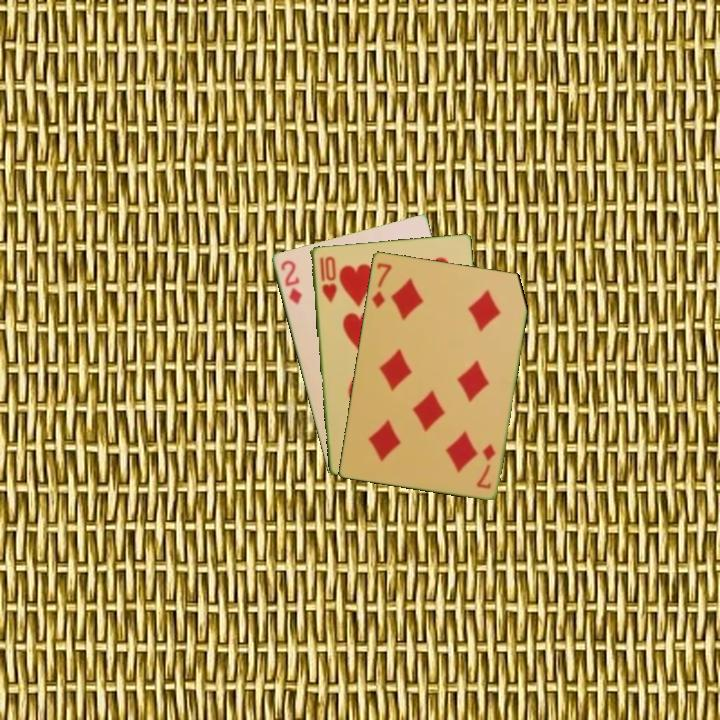10h: (316, 253, 339, 305)
2d: (277, 256, 304, 307)
7d: (368, 259, 394, 311), (473, 440, 498, 492)
